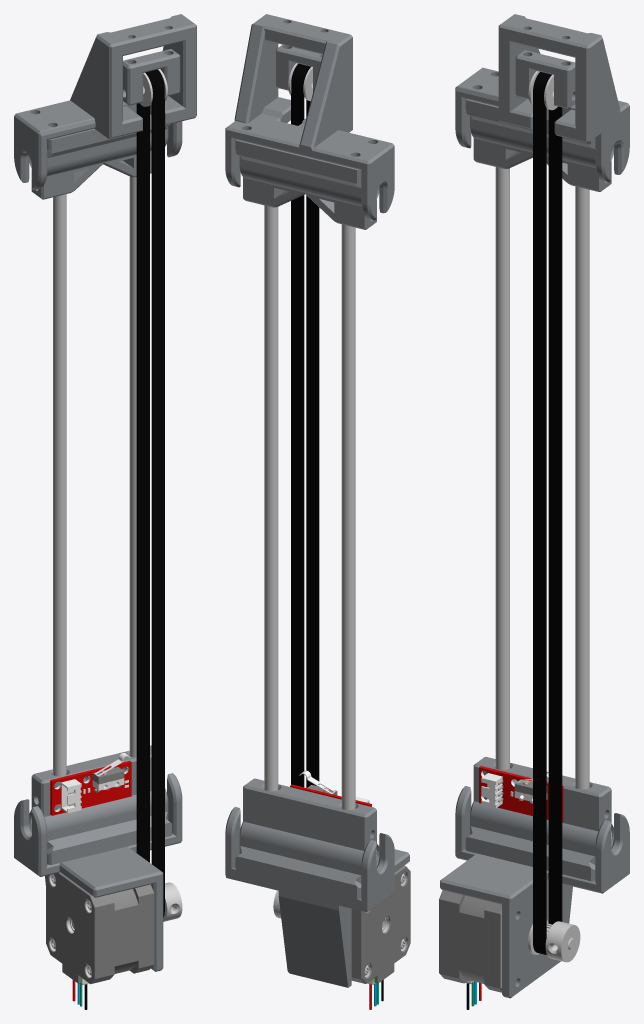
File: AxeX.gltf
The picture shows the model from 3 angles, left to right: view 1: azimuth 30°, elevation 25°; view 2: azimuth 150°, elevation 25°; view 3: azimuth 330°, elevation 25°; orthographic projection. The views are drawn at different scales.
Visible parts, largest first — view 1: Part 1 (×5), Rod (×2), 17HE12-1204S, Part 2 (×2), PINION; view 2: Part 1 (×5), Rod (×2), Part 2, 17HE12-1204S; view 3: Part 1 (×5), Rod (×2), Part 2 (×2), 17HE12-1204S, PINION, PULLEY.
Part boxes in pixels (x1,y1,x2,y2): Part 1 (×5): (14, 14, 196, 971); Rod (×2): (53, 176, 136, 776); 17HE12-1204S: (46, 872, 154, 984); Part 2 (×2): (29, 112, 170, 815); PINION: (163, 882, 182, 921); Part 1 (×5): (225, 14, 409, 987); Rod (×2): (264, 205, 355, 809); Part 2: (235, 139, 379, 229); 17HE12-1204S: (351, 865, 410, 984); Part 1 (×5): (440, 14, 629, 998); Rod (×2): (495, 167, 589, 789); Part 2 (×2): (465, 99, 613, 821); 17HE12-1204S: (439, 890, 574, 992); PINION: (528, 919, 580, 962); PULLEY: (528, 71, 557, 110).
Bounding box in the file's own units: 0.072 × 0.4562 × 0.0533.
